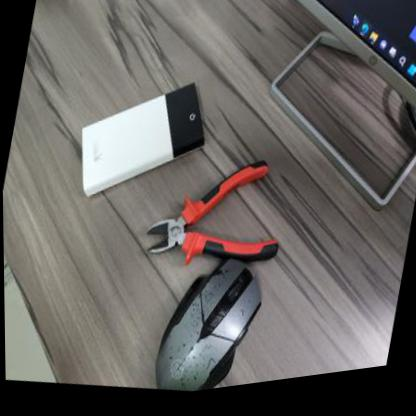mouserotation: (147, 246, 273, 400)
